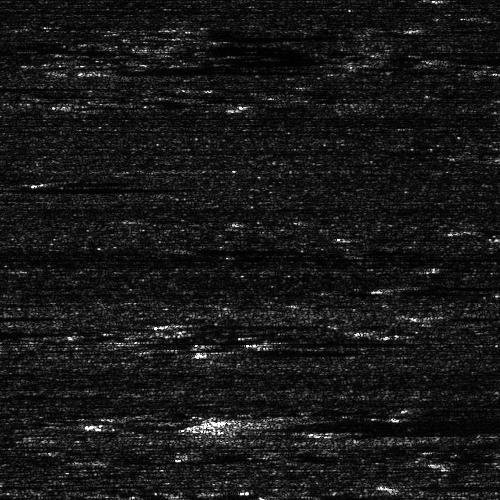object: (144, 410, 311, 435), (99, 331, 172, 350), (197, 348, 270, 357), (375, 283, 428, 294), (245, 337, 298, 346), (35, 68, 118, 73), (137, 321, 210, 326), (370, 483, 433, 488), (142, 31, 205, 36), (413, 313, 476, 318), (418, 56, 471, 61), (462, 155, 500, 160), (218, 498, 259, 500)
shadow: (227, 410, 500, 435), (136, 331, 255, 350), (0, 181, 125, 190), (272, 337, 396, 346), (234, 348, 354, 357), (77, 68, 244, 73), (0, 389, 82, 398), (402, 283, 463, 294), (174, 321, 291, 326), (174, 31, 289, 36), (239, 498, 500, 500), (0, 81, 70, 88), (402, 483, 500, 488), (0, 312, 74, 317), (0, 328, 26, 339), (444, 56, 500, 61), (444, 313, 500, 318)
